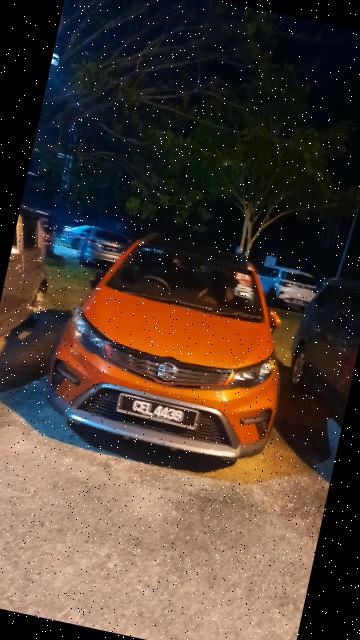License_Plate: (112, 390, 204, 437)
car: (38, 216, 311, 477)
